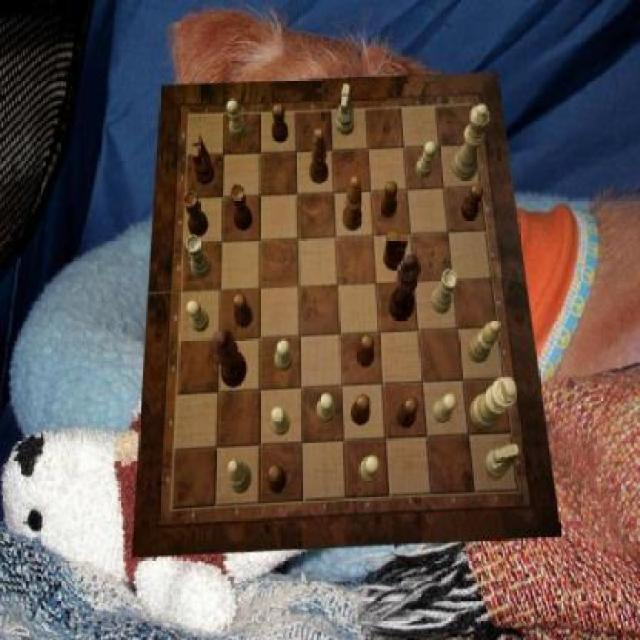bishop: (343, 175, 363, 230), (310, 129, 328, 184)
black-bishop: (389, 254, 419, 320)
black-king: (192, 134, 215, 186), (385, 232, 409, 271)
black-knight: (461, 183, 484, 221), (395, 397, 418, 429), (234, 292, 254, 327), (272, 105, 290, 143), (380, 182, 398, 219), (351, 394, 371, 426), (268, 463, 288, 494), (356, 336, 374, 370)
black-pawn: (212, 328, 248, 388)
black-queen: (185, 192, 209, 238), (231, 184, 254, 230)
black-rook: (468, 320, 500, 364), (228, 458, 252, 494)
white-bishop: (469, 377, 517, 431)
white-king: (485, 444, 520, 480), (336, 85, 354, 137)
white-knight: (227, 100, 246, 140), (416, 142, 436, 179), (432, 394, 457, 423), (188, 300, 210, 332), (358, 455, 379, 483), (276, 340, 294, 372), (271, 408, 290, 435), (316, 394, 334, 421)
white-pawn: (452, 104, 490, 180)
white-queen: (431, 269, 457, 315), (186, 236, 211, 280)
